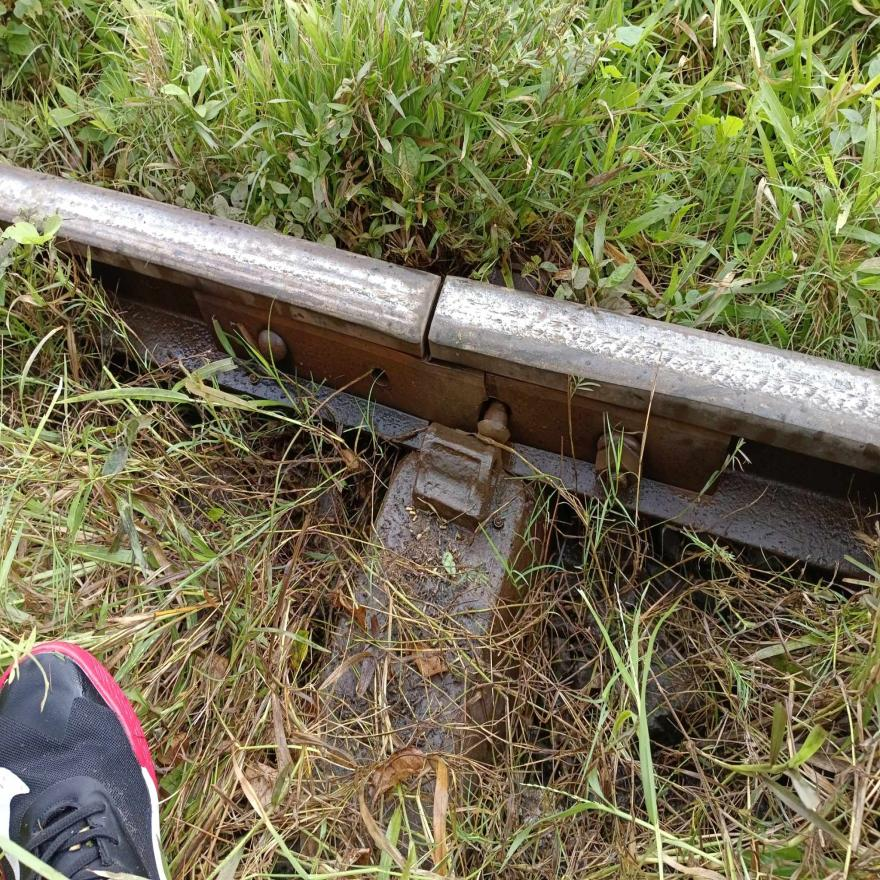railway-gap: (394, 262, 467, 371)
